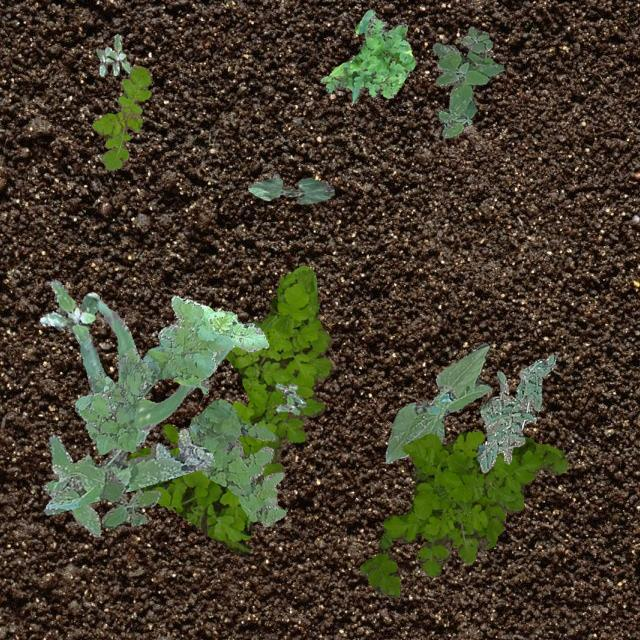crop: (74, 298, 230, 428), (384, 342, 490, 462), (246, 176, 334, 204)
weed: (124, 264, 333, 554), (358, 430, 568, 598), (74, 294, 268, 454), (42, 428, 214, 514), (188, 398, 286, 526), (476, 354, 554, 472), (320, 8, 414, 102), (432, 25, 502, 136), (90, 64, 150, 170), (42, 434, 100, 536), (38, 278, 98, 342), (98, 470, 160, 528), (96, 32, 130, 74), (274, 382, 304, 413), (408, 400, 433, 412)
